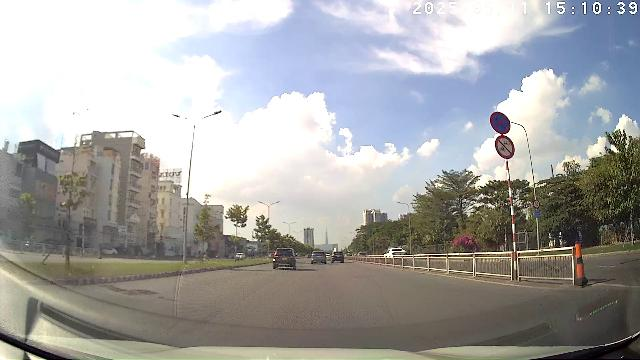127-toc-do-toi-da-50: (533, 199, 540, 209)
130-cam-dung-va-do-xe: (489, 111, 511, 134)
